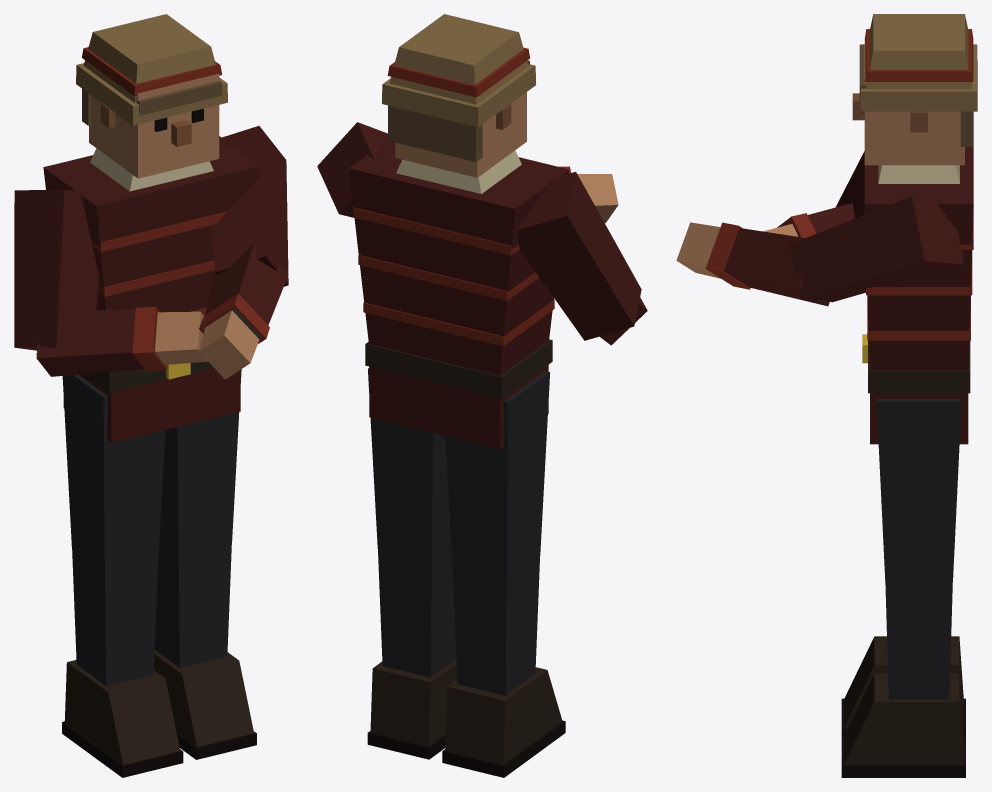
The model's file is grunt_set_woodsman.glb.
3 renders of one model, left to right at view 1: azimuth 30°, elevation 25°; view 2: azimuth 150°, elevation 25°; view 3: azimuth 270°, elevation 25°, orthographic. The views are drawn at different scales.
Parts seen in each view (by area): view 1: torso, leg_r_lower, head, leg_l_lower, leg_r, arm_r, leg_l, arm_r_lower, arm_l, arm_l_lower, hair; view 2: torso, leg_r_lower, head, leg_l_lower, leg_r, arm_r, leg_l, hair, arm_l, arm_l_lower; view 3: torso, leg_l_lower, head, leg_l, arm_l, arm_l_lower, leg_r_lower, arm_r_lower, arm_r, hair.
Boxes of the visible parts, left/top/right/bottom form: torso: left=43, top=136, right=260, bottom=442; leg_r_lower: left=62, top=548, right=183, bottom=777; head: left=76, top=14, right=227, bottom=178; leg_l_lower: left=154, top=540, right=256, bottom=759; leg_r: left=62, top=374, right=165, bottom=572; arm_r: left=14, top=189, right=99, bottom=350; leg_l: left=159, top=369, right=241, bottom=554; arm_r_lower: left=36, top=307, right=207, bottom=376; arm_l: left=210, top=126, right=288, bottom=286; arm_l_lower: left=198, top=243, right=288, bottom=379; hair: left=82, top=80, right=221, bottom=125; torso: left=349, top=140, right=569, bottom=448; leg_r_lower: left=442, top=556, right=565, bottom=777; head: left=381, top=14, right=536, bottom=177; leg_l_lower: left=367, top=548, right=457, bottom=759; leg_r: left=445, top=371, right=550, bottom=580; arm_r: left=517, top=171, right=641, bottom=340; leg_l: left=368, top=368, right=451, bottom=561; hair: left=388, top=60, right=529, bottom=161; arm_l: left=317, top=122, right=387, bottom=217; arm_l_lower: left=558, top=166, right=618, bottom=223; torso: left=862, top=147, right=973, bottom=444; leg_l_lower: left=841, top=582, right=965, bottom=777; head: left=852, top=14, right=977, bottom=165; leg_l: left=876, top=399, right=961, bottom=582; arm_l: left=789, top=196, right=963, bottom=302; arm_l_lower: left=676, top=222, right=829, bottom=306; leg_r_lower: left=841, top=636, right=965, bottom=735; arm_r_lower: left=763, top=203, right=854, bottom=237; arm_r: left=836, top=151, right=864, bottom=218; hair: left=859, top=44, right=973, bottom=146.
Size of the model in its own units: 0.7929 by 1.8 by 0.6902.
